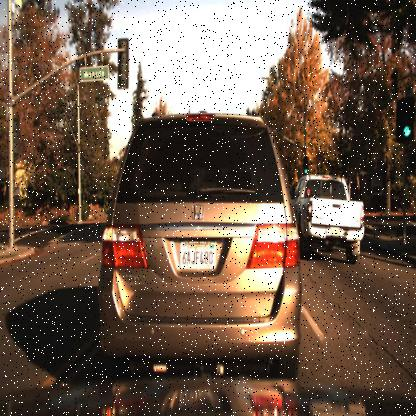car: (96, 111, 304, 377), (293, 172, 364, 264)
trafficLight-Green: (398, 93, 414, 147), (300, 155, 310, 180)
